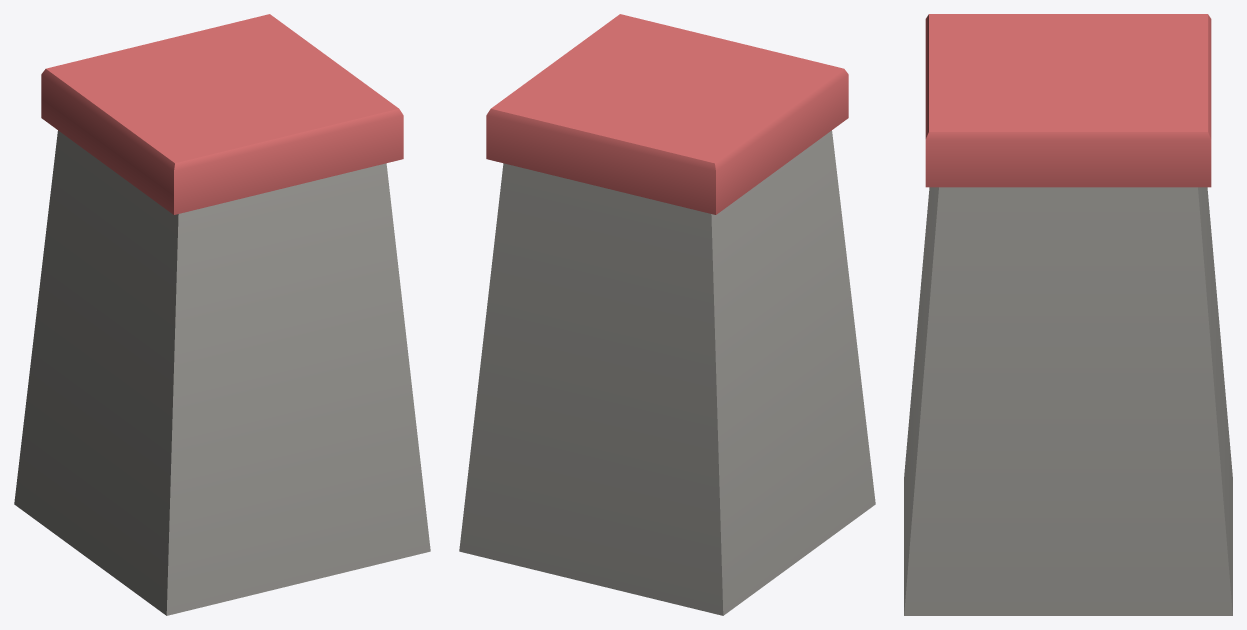
Rendered from nawall.glb.
3 views of the same model, side by side, from view 1: azimuth 30°, elevation 25°; view 2: azimuth 150°, elevation 25°; view 3: azimuth 270°, elevation 25° (orthographic). The views are drawn at different scales.
Visible parts, largest first — view 1: Hull; view 2: Hull; view 3: Hull.
Part boxes in pixels (x1,y1,x2,y2): Hull: [14, 14, 430, 615]; Hull: [459, 14, 875, 615]; Hull: [904, 14, 1232, 615].
Bounding box in the file's own units: 0.828 × 1.32 × 0.828.
